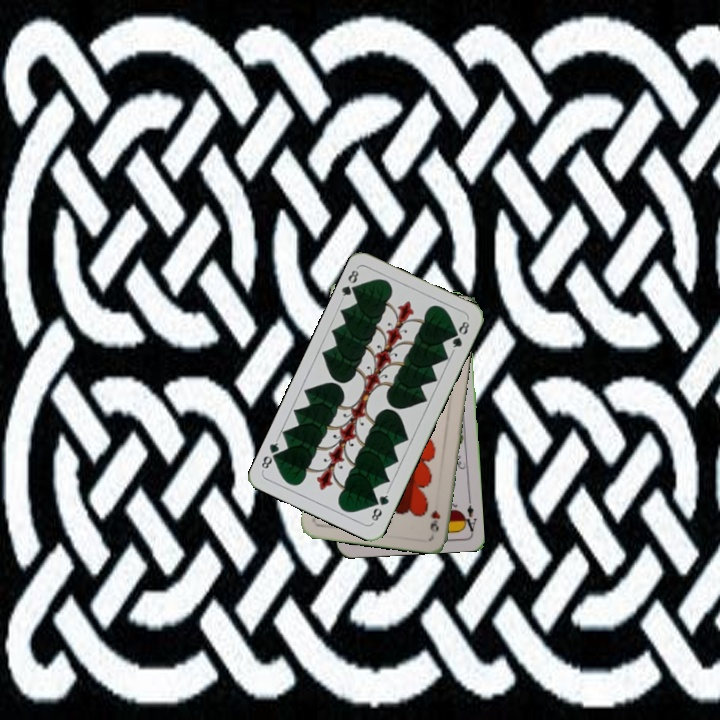EA: (459, 494, 479, 534)
G8: (337, 264, 362, 303), (367, 487, 391, 525)
H9: (426, 506, 443, 534)
